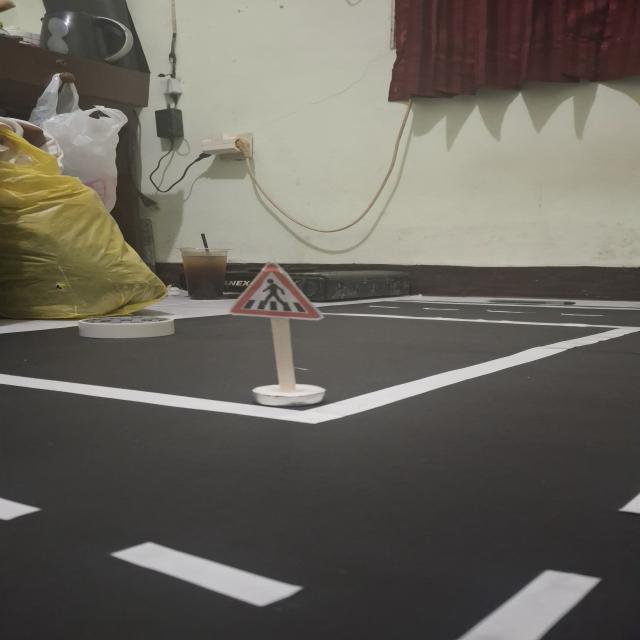Rambu Penyebrangan: (230, 262, 326, 319)
